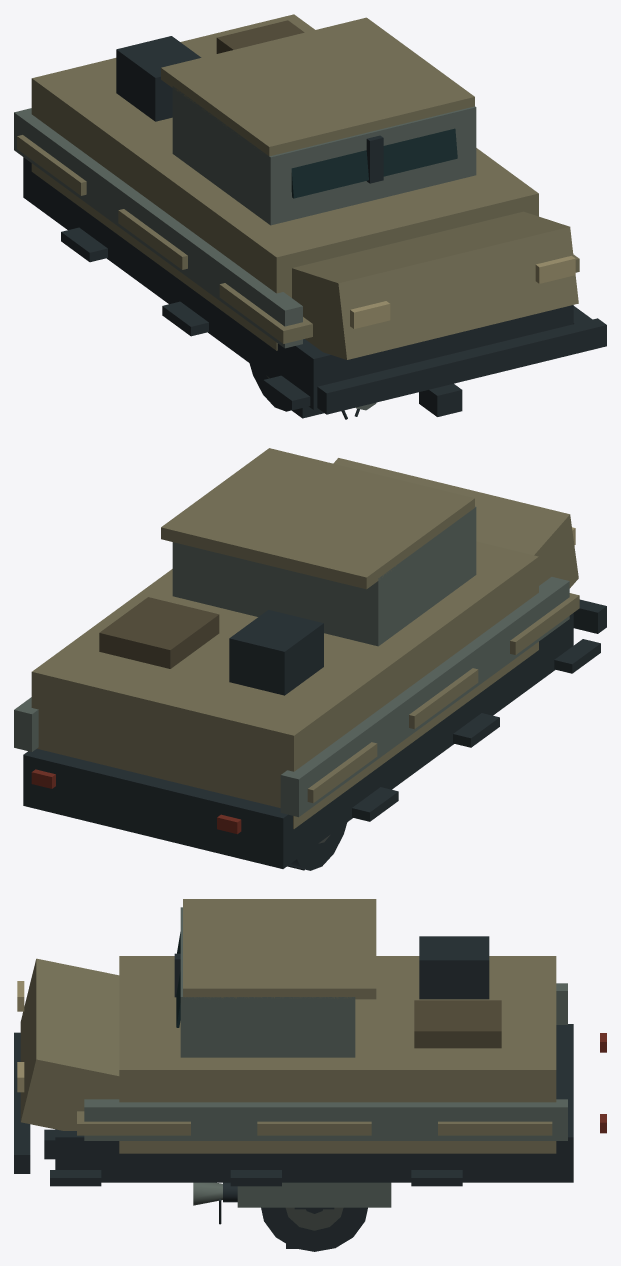
Rendered from sandline-units.glb.
3 renders of one model, top to bottom at view 1: azimuth 30°, elevation 25°; view 2: azimuth 150°, elevation 25°; view 3: azimuth 270°, elevation 25°, orthographic. The views are drawn at different scales.
Visible parts, largest first — view 1: vehicle_body, vehicle_turret; view 2: vehicle_body, vehicle_wheel; view 3: vehicle_body, vehicle_turret, vehicle_wheel, weapon_at.
Boxes of the visible parts, x1,y1,x2,y2 form: vehicle_body: (14, 14, 606, 414); vehicle_turret: (419, 383, 462, 416); vehicle_body: (14, 448, 606, 868); vehicle_wheel: (288, 822, 347, 870); vehicle_body: (14, 899, 606, 1186); vehicle_turret: (44, 1129, 391, 1207); vehicle_wheel: (261, 1207, 367, 1251); weapon_at: (193, 1182, 237, 1205).
Size of what is drawn, in the model's own units: 2.73 by 2.84 by 5.09.
